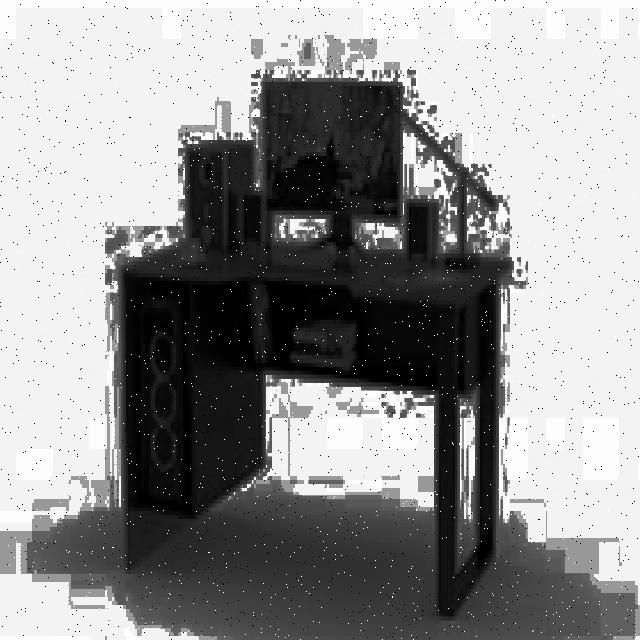table: (121, 238, 512, 617)
